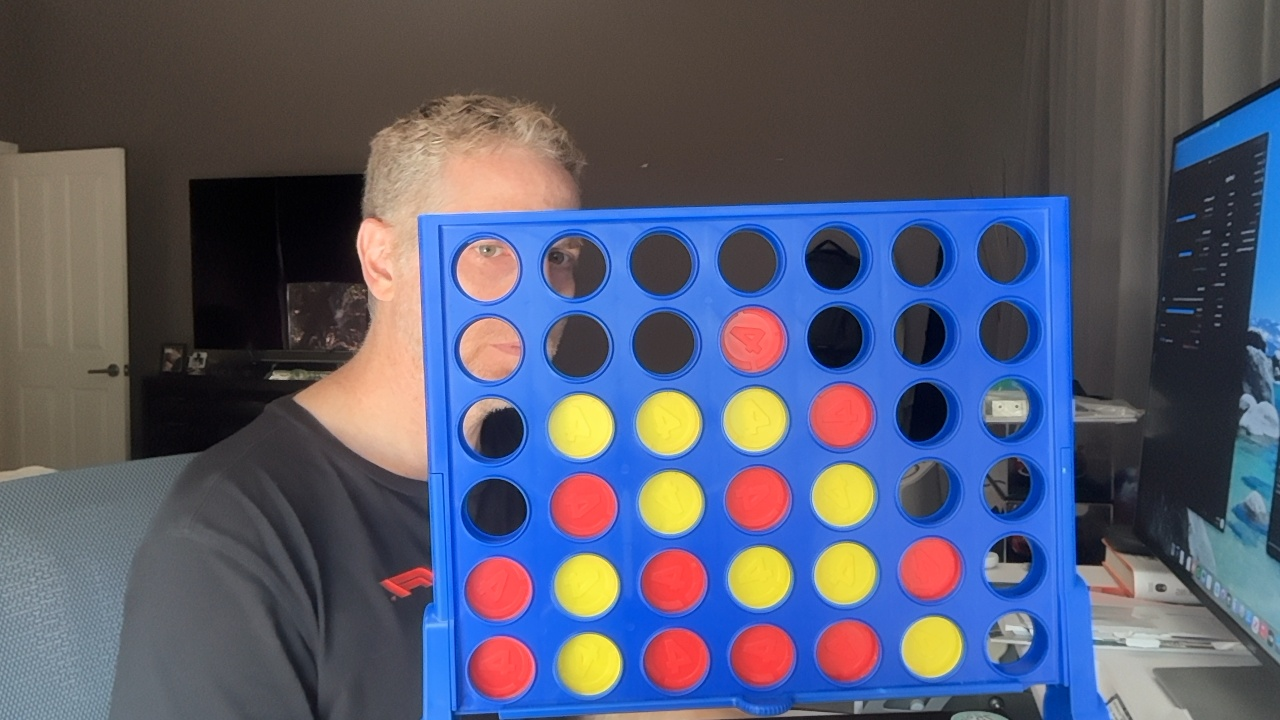red piece: (468, 636, 534, 701), (551, 473, 616, 538), (721, 307, 785, 373), (640, 549, 706, 613), (643, 628, 709, 692), (465, 557, 531, 621), (730, 624, 795, 688), (726, 466, 790, 531), (809, 383, 873, 448), (816, 620, 880, 682), (899, 537, 961, 600)
yellow piece: (548, 394, 614, 459), (636, 390, 701, 456), (638, 470, 704, 535), (556, 632, 621, 697), (554, 553, 619, 618), (723, 387, 788, 452), (728, 545, 792, 610), (811, 463, 875, 528), (814, 541, 877, 606), (902, 616, 963, 678)
